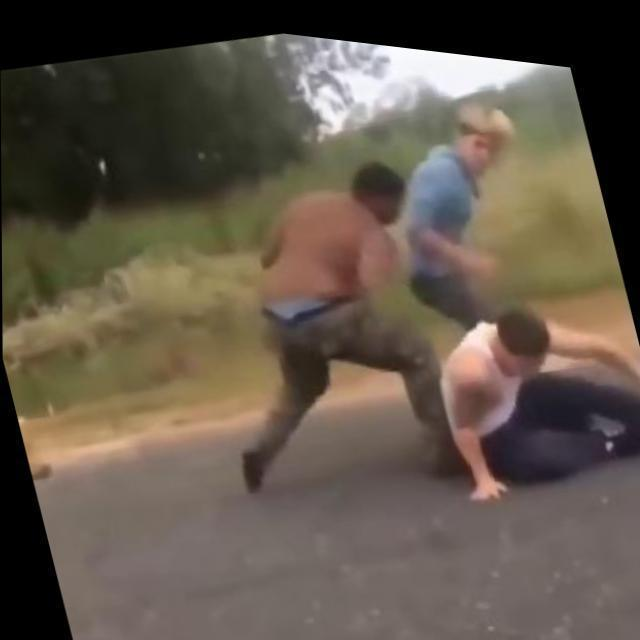fight: (170, 80, 640, 568)
